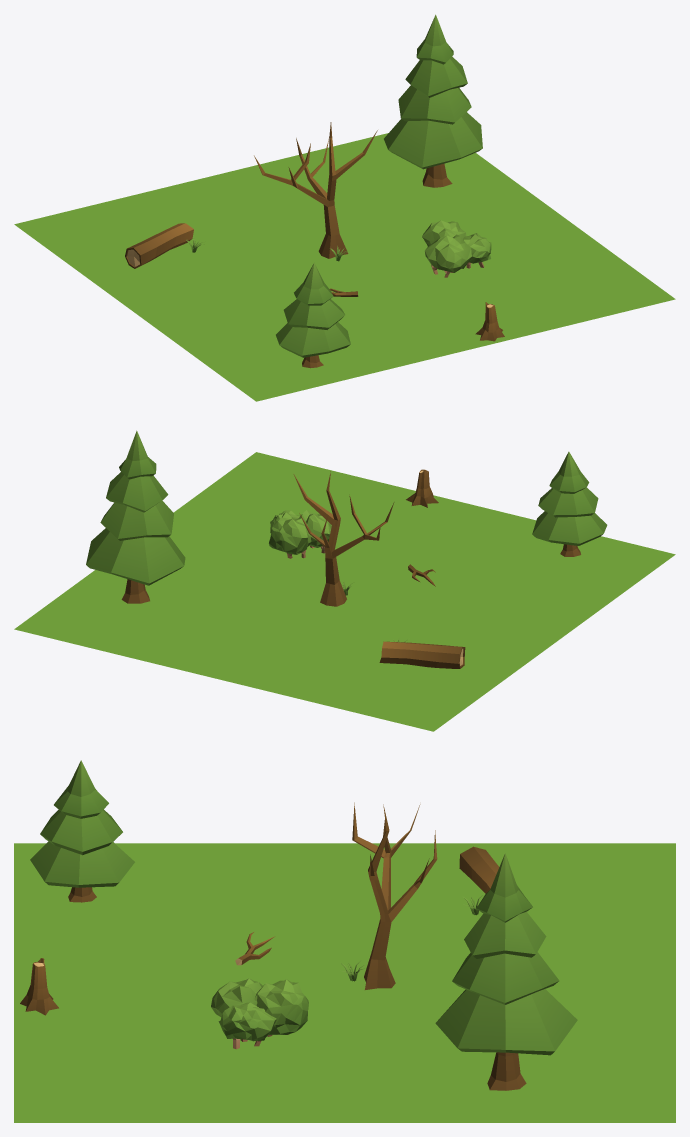
File: enviroment_2.gltf
3 renders of one model, top to bottom at view 1: azimuth 30°, elevation 25°; view 2: azimuth 150°, elevation 25°; view 3: azimuth 270°, elevation 25°, orthographic. The views are drawn at different scales.
Parts seen in each view (by area): view 1: SimpleGround.003, Tree_Spruce_small_01.003, Tree_Spruce_tiny_02.001, Tree_average_bare, Bush_group_big.001, Log_big_regular, Stump_average_high; view 2: SimpleGround.003, Tree_Spruce_small_01.003, Tree_Spruce_tiny_02.001, Tree_average_bare, Bush_group_big.001, Log_big_regular, Stump_average_high; view 3: SimpleGround.003, Tree_Spruce_small_01.003, Tree_Spruce_tiny_02.001, Bush_group_big.001, Tree_average_bare, Log_big_regular, Stump_average_high.
Boxes of the visible parts, x1,y1,x2,y2 form: SimpleGround.003: [14, 133, 675, 401]; Tree_Spruce_small_01.003: [384, 14, 482, 187]; Tree_Spruce_tiny_02.001: [276, 263, 350, 368]; Tree_average_bare: [254, 122, 377, 258]; Bush_group_big.001: [422, 220, 491, 277]; Log_big_regular: [125, 223, 193, 268]; Stump_average_high: [475, 302, 504, 341]; SimpleGround.003: [14, 452, 675, 731]; Tree_Spruce_small_01.003: [86, 430, 185, 603]; Tree_Spruce_tiny_02.001: [532, 451, 607, 556]; Tree_average_bare: [293, 471, 394, 606]; Bush_group_big.001: [269, 510, 331, 558]; Log_big_regular: [379, 641, 465, 668]; Stump_average_high: [406, 469, 438, 507]; SimpleGround.003: [14, 843, 675, 1122]; Tree_Spruce_small_01.003: [435, 853, 577, 1090]; Tree_Spruce_tiny_02.001: [30, 760, 134, 902]; Bush_group_big.001: [211, 978, 308, 1049]; Tree_average_bare: [352, 802, 437, 989]; Log_big_regular: [459, 846, 499, 893]; Stump_average_high: [20, 958, 58, 1015].
Size of the model in its own units: 20 by 7.69 by 20.
Materials: 7 (6 with a texture image).
